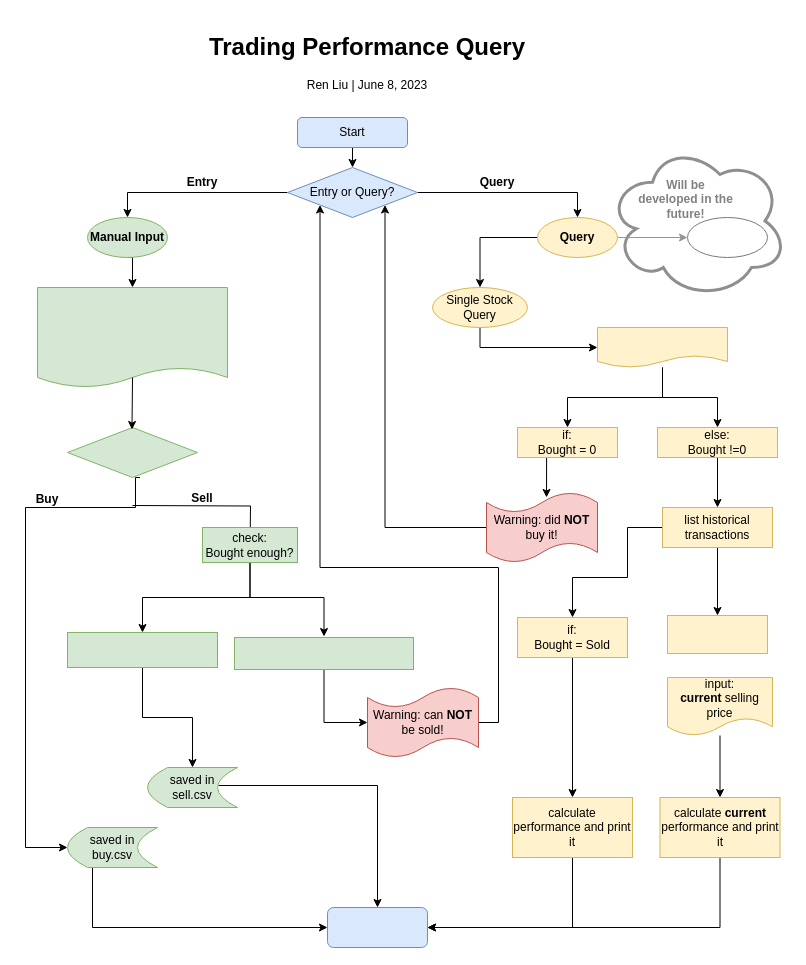
Image size: 806x965. Some labels were removed from this diagram. The shapes that lost their labels are listed below. From the top down, each one's centre as x and y in pixels, then its label:
the point at 727,237: Portfolio Query
the point at 132,337: Stock Name Stock ID Price per share Amount Date of Transaction
the point at 662,347: input: Stock Name
the point at 132,452: Buy or Sell?
the point at 142,650: if: (Bought-Sold) >= to sell
the point at 324,653: else: (Bought - Sold) < to sell
the point at 717,634: else: Bought > Sold
the point at 377,927: Stop
